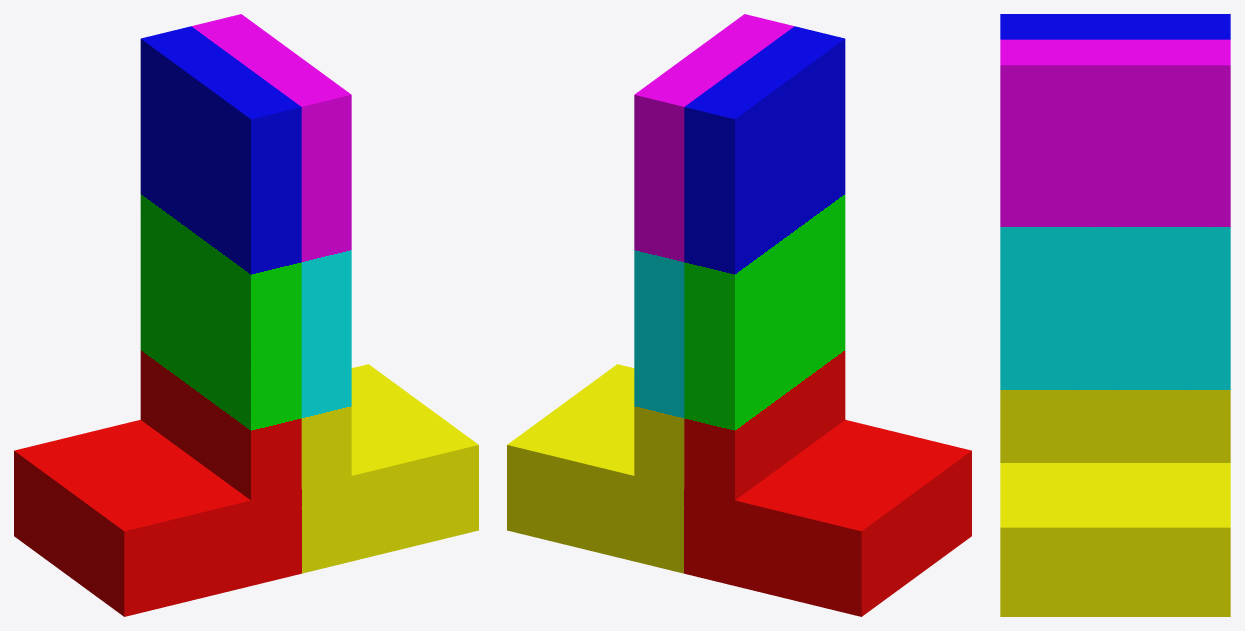
The model's file is letter.obj.
The picture shows the model from 3 angles, left to right: view 1: azimuth 30°, elevation 25°; view 2: azimuth 150°, elevation 25°; view 3: azimuth 270°, elevation 25°; orthographic projection. The views are drawn at different scales.
Bounding box in the file's own units: 223 × 280 × 120.
1 material, 1 textured.
